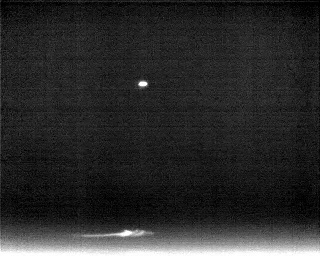AIRPLANE: (136, 78, 150, 91)
